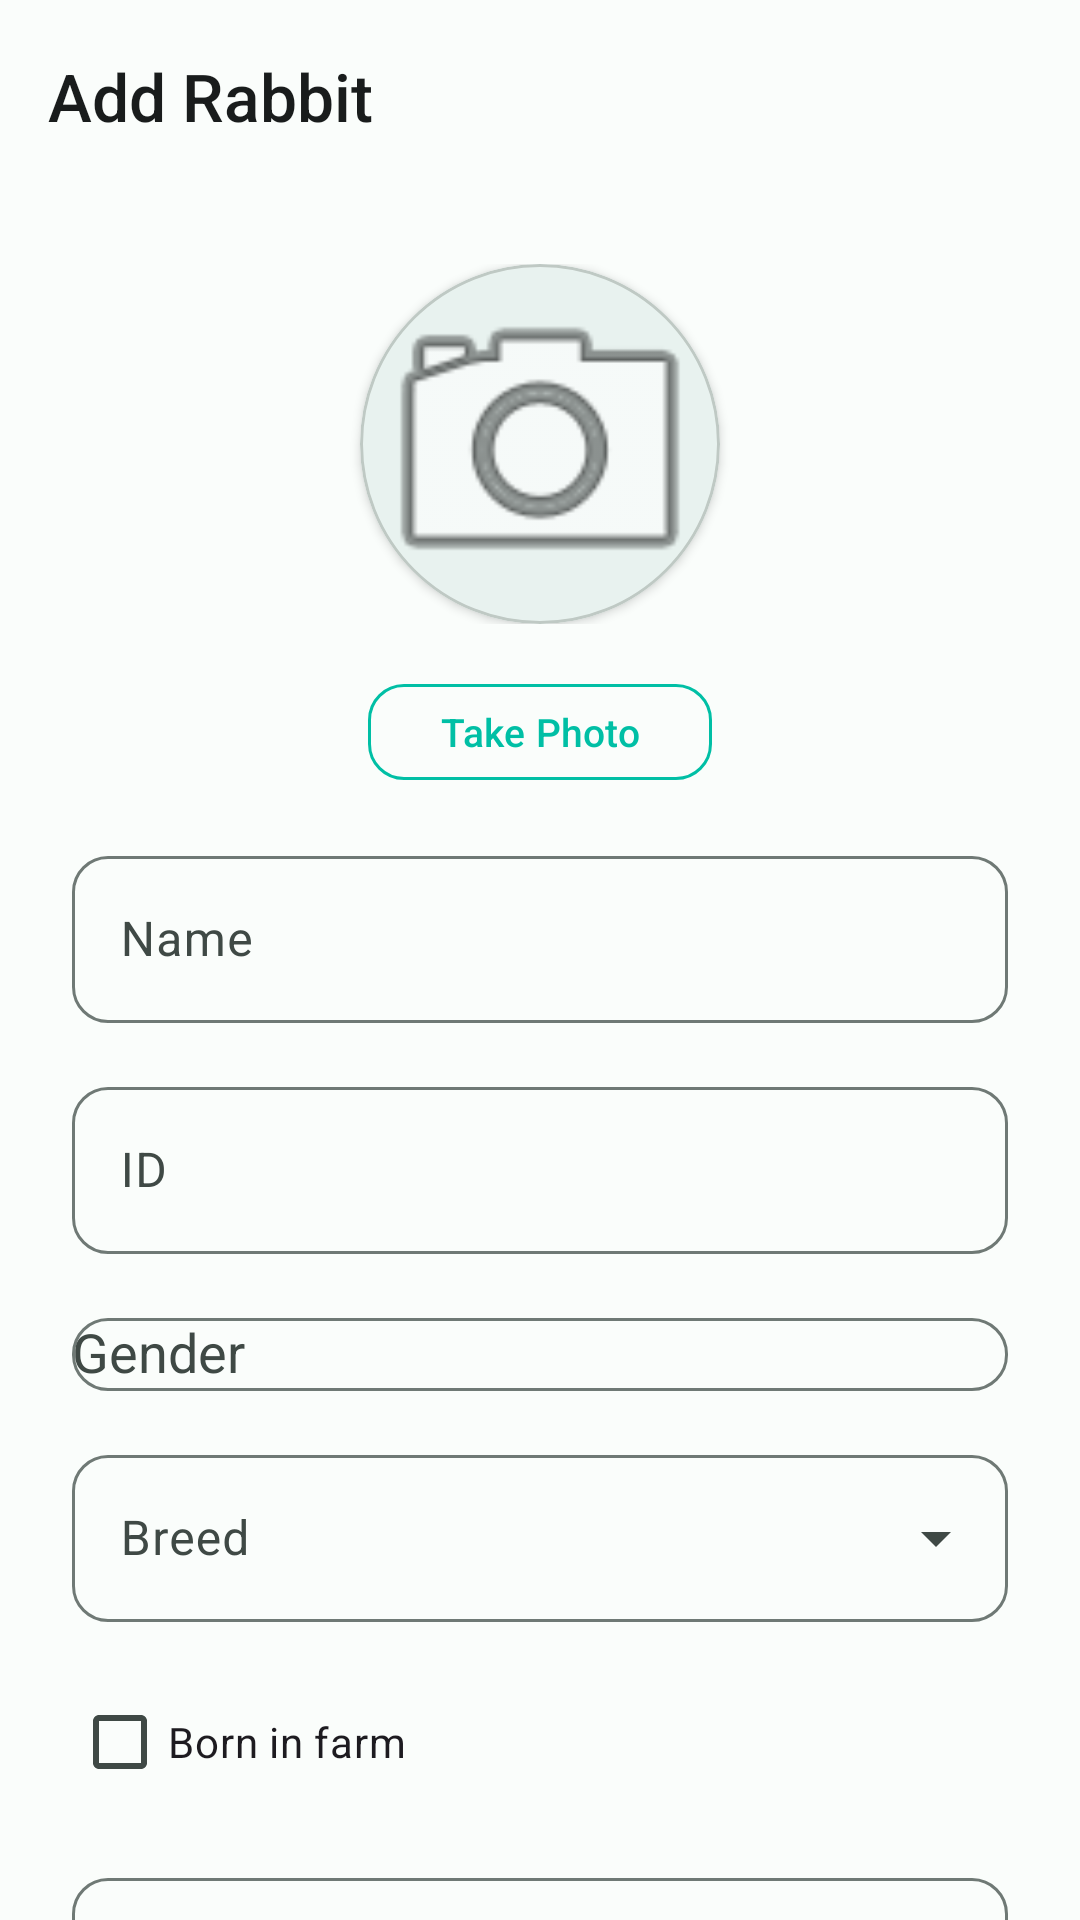

Screen size 1080 x 1920. Icon name, then its box in pixels as (x1, y1, x2, y2):
camera: (360, 264, 720, 624)
